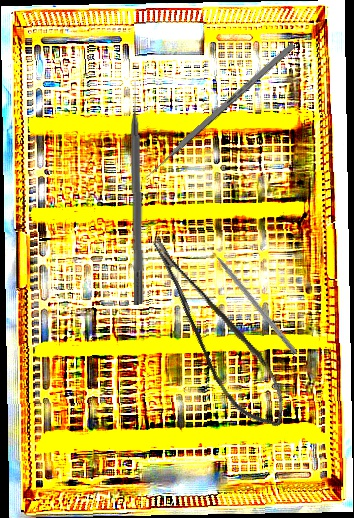Hook Surgical: (201, 237, 299, 356)
Micro Scissor: (145, 219, 298, 444)
Pusher: (138, 41, 296, 186), (129, 80, 147, 305)
